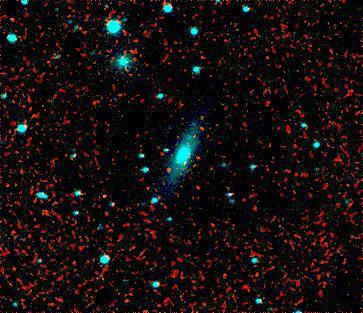star: (30, 198, 60, 228)
